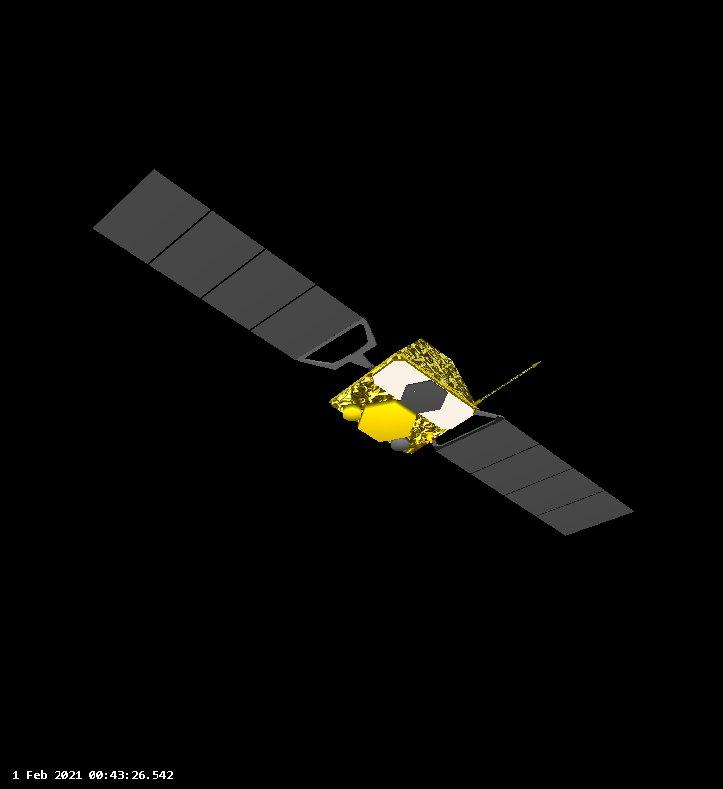antenna: (473, 358, 545, 407)
body: (327, 336, 479, 456)
solar: (92, 166, 366, 362), (433, 415, 638, 540)
